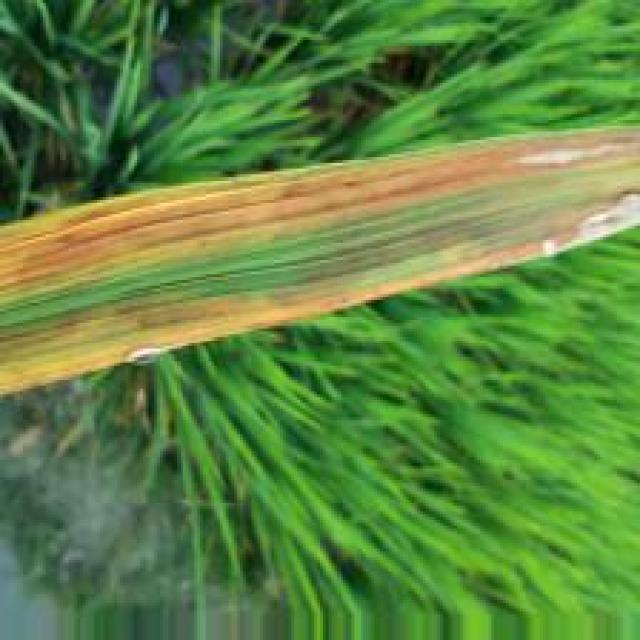Bacterial_Leaf_Blight: (0, 129, 640, 394)
